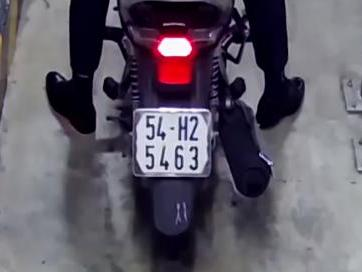num_plate: (133, 107, 212, 178)
